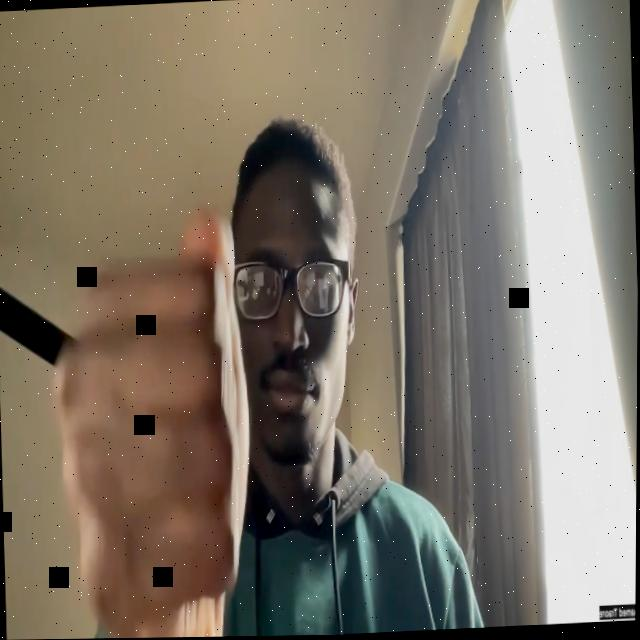Rock: (44, 208, 260, 639)
